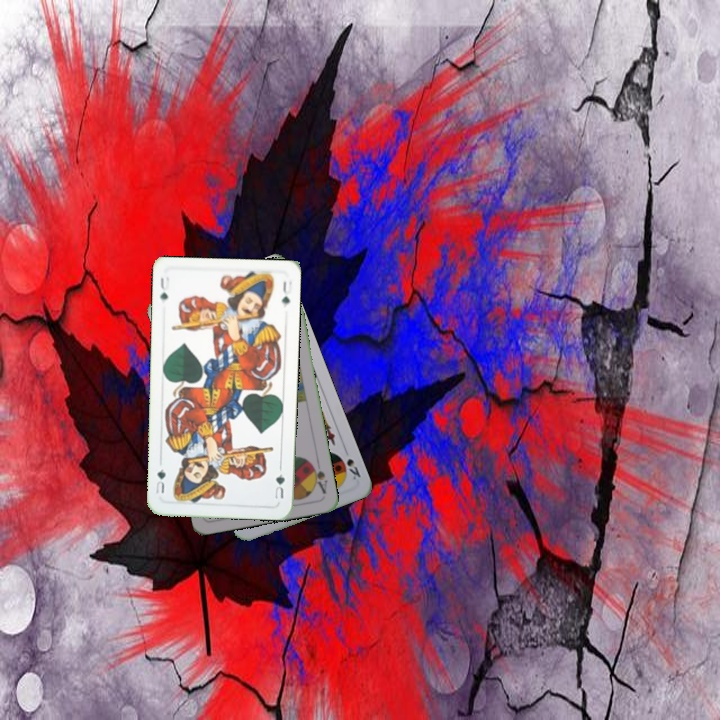GU: (271, 463, 287, 501), (156, 273, 172, 303)
SA: (307, 457, 330, 496)
SK: (342, 454, 363, 483)
